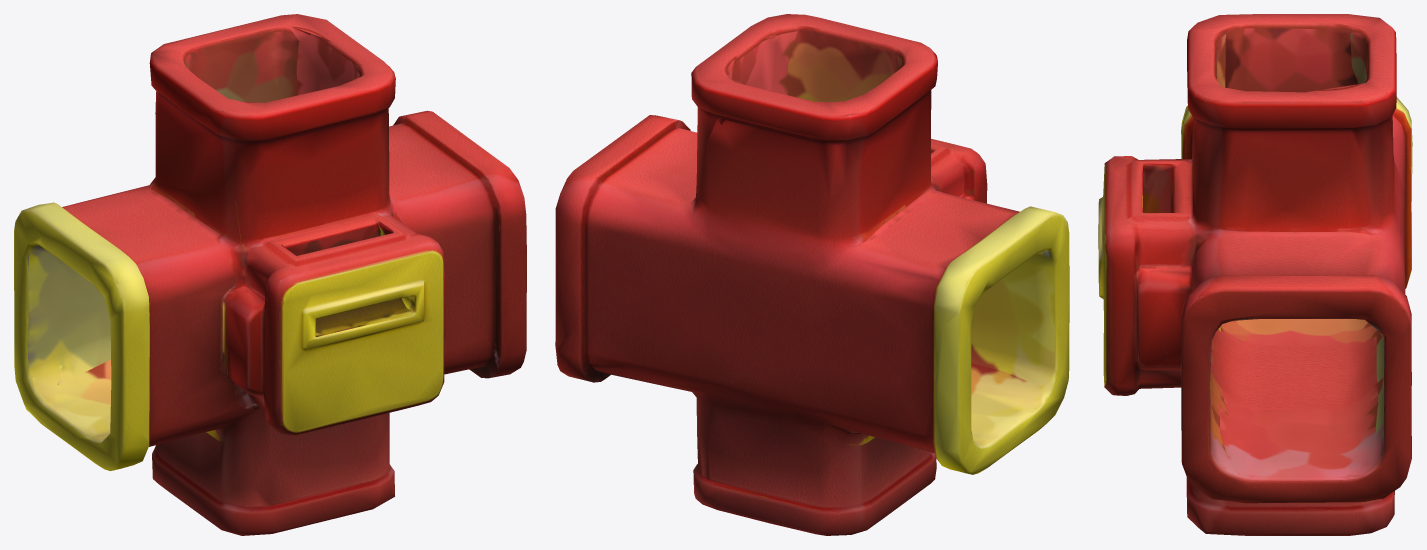
The model's file is Exchanger.fbx.
3 renders of one model, left to right at view 1: azimuth 30°, elevation 25°; view 2: azimuth 150°, elevation 25°; view 3: azimuth 270°, elevation 25°, orthographic. The views are drawn at different scales.
Parts seen in each view (by area): view 1: material_0; view 2: material_0; view 3: material_0.
Boxes of the visible parts, x1,y1,x2,y2 form: material_0: (14,14,526,535); material_0: (555,14,1069,535); material_0: (1098,14,1412,535).
Size of the model in its own units: 100 by 99.87 by 64.97.
Materials: 1 (1 with a texture image).
